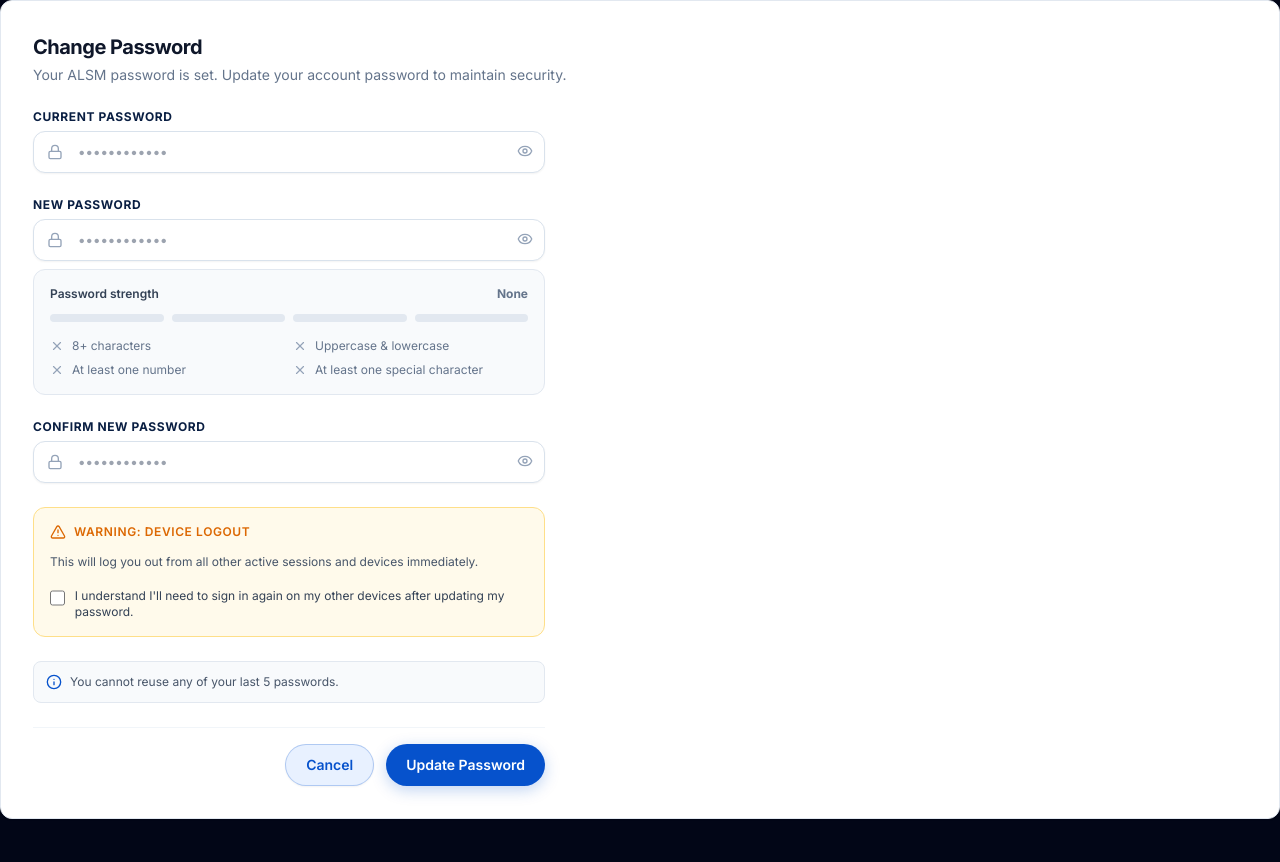
forced credential remediation › retains the restriction on a rejected credential change
Type "Old-Fixture-42!" into the password field labelled "Current Password" at (289, 152), box [33,131,545,173]
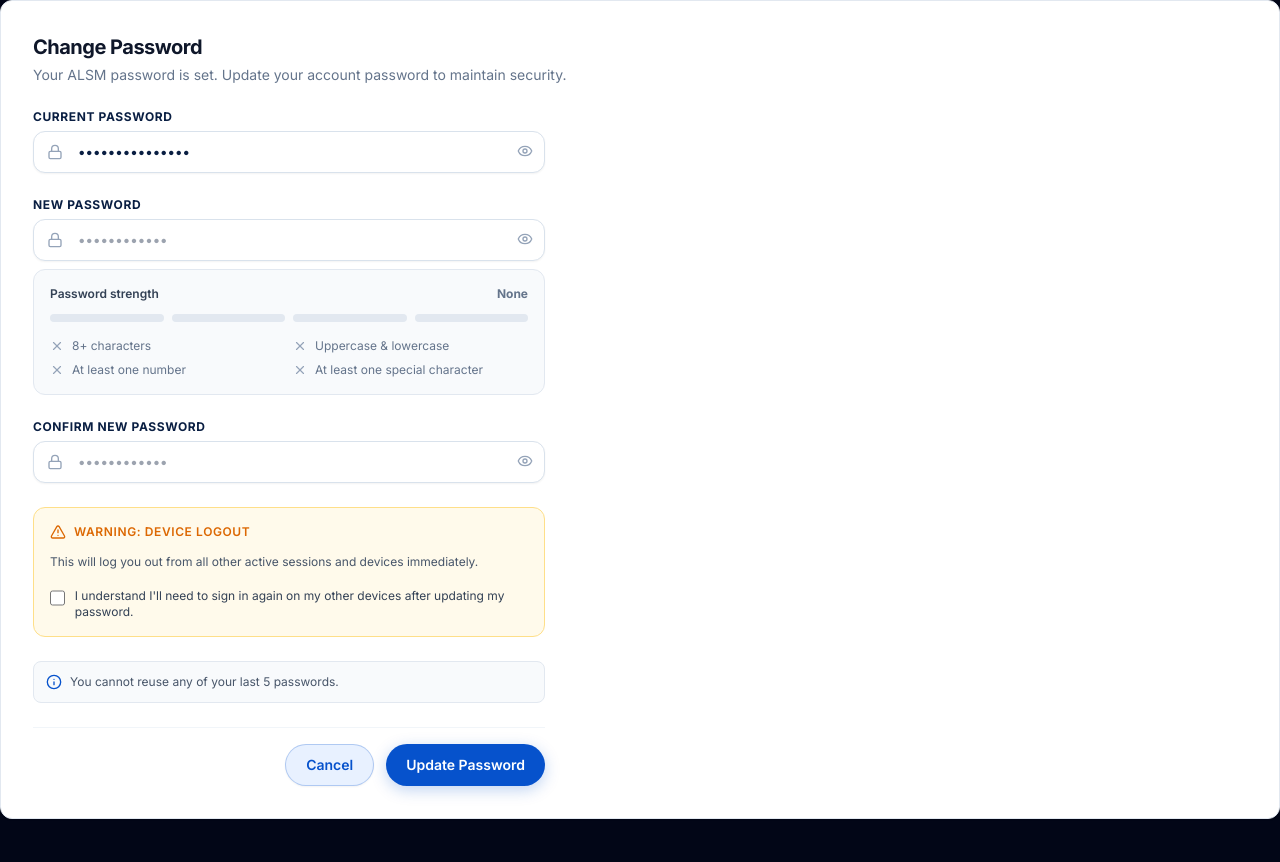
Type "New-Fixture-42!" into the password field labelled "New Password" at (289, 240), box [33,219,545,261]
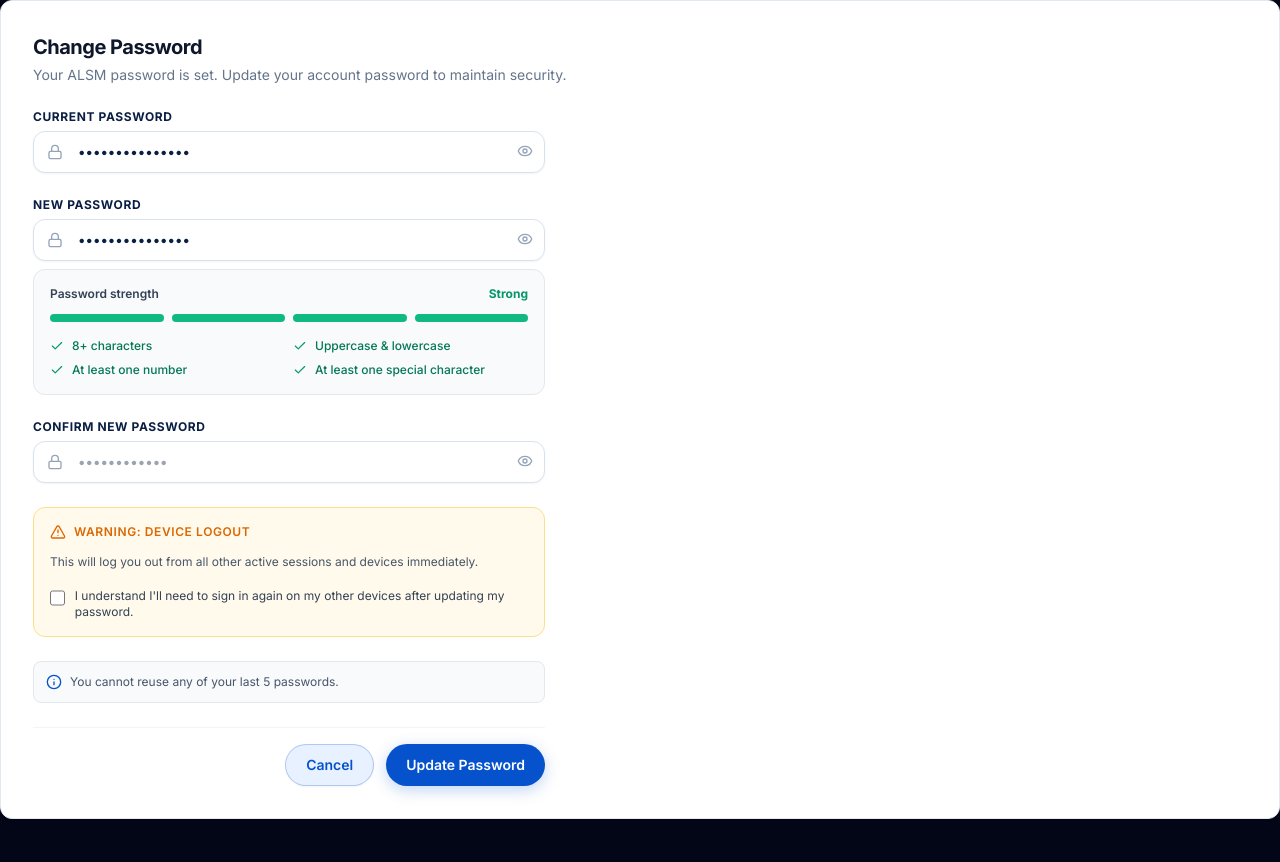
Type "New-Fixture-42!" into the password field labelled "Confirm New Password" at (289, 462), box [33,441,545,483]
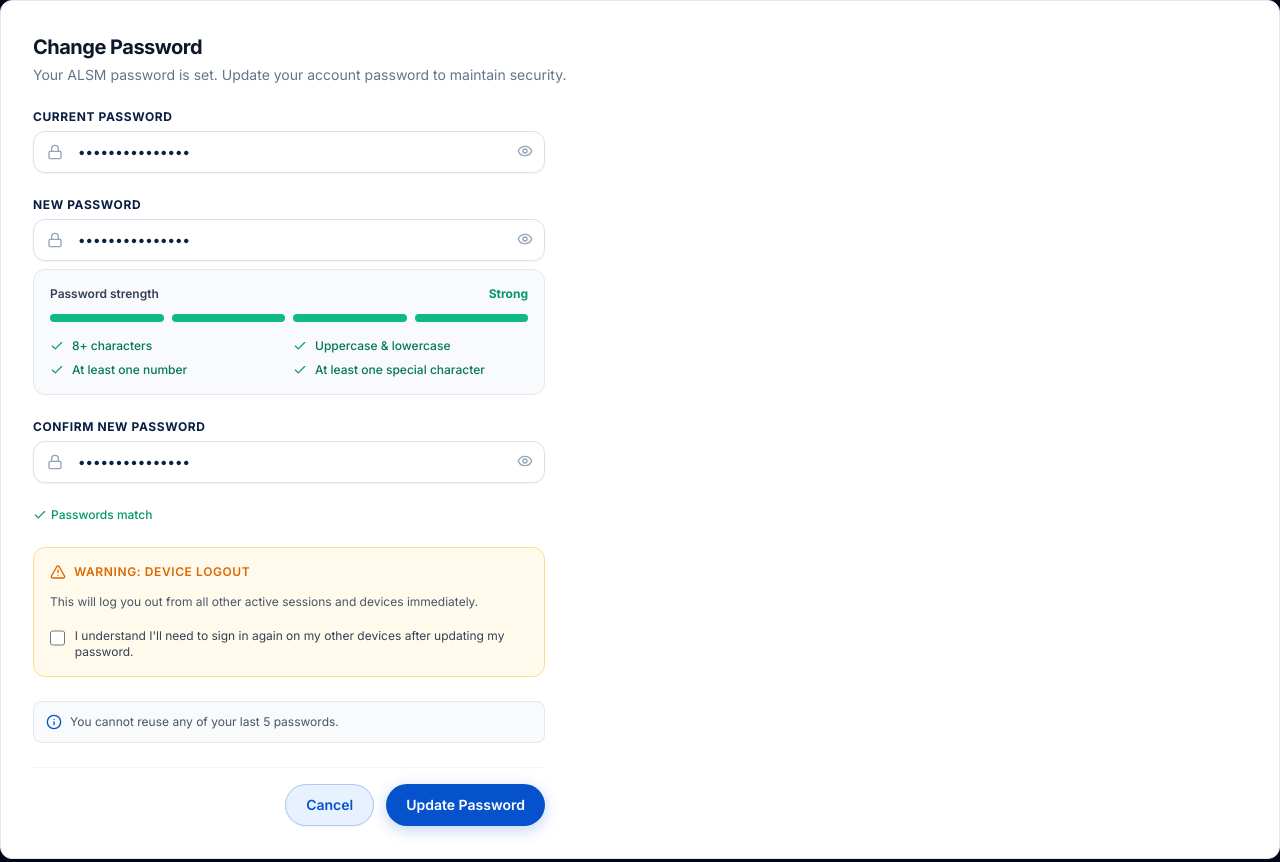
Click the checkbox at (57, 638), box [50,630,65,646]
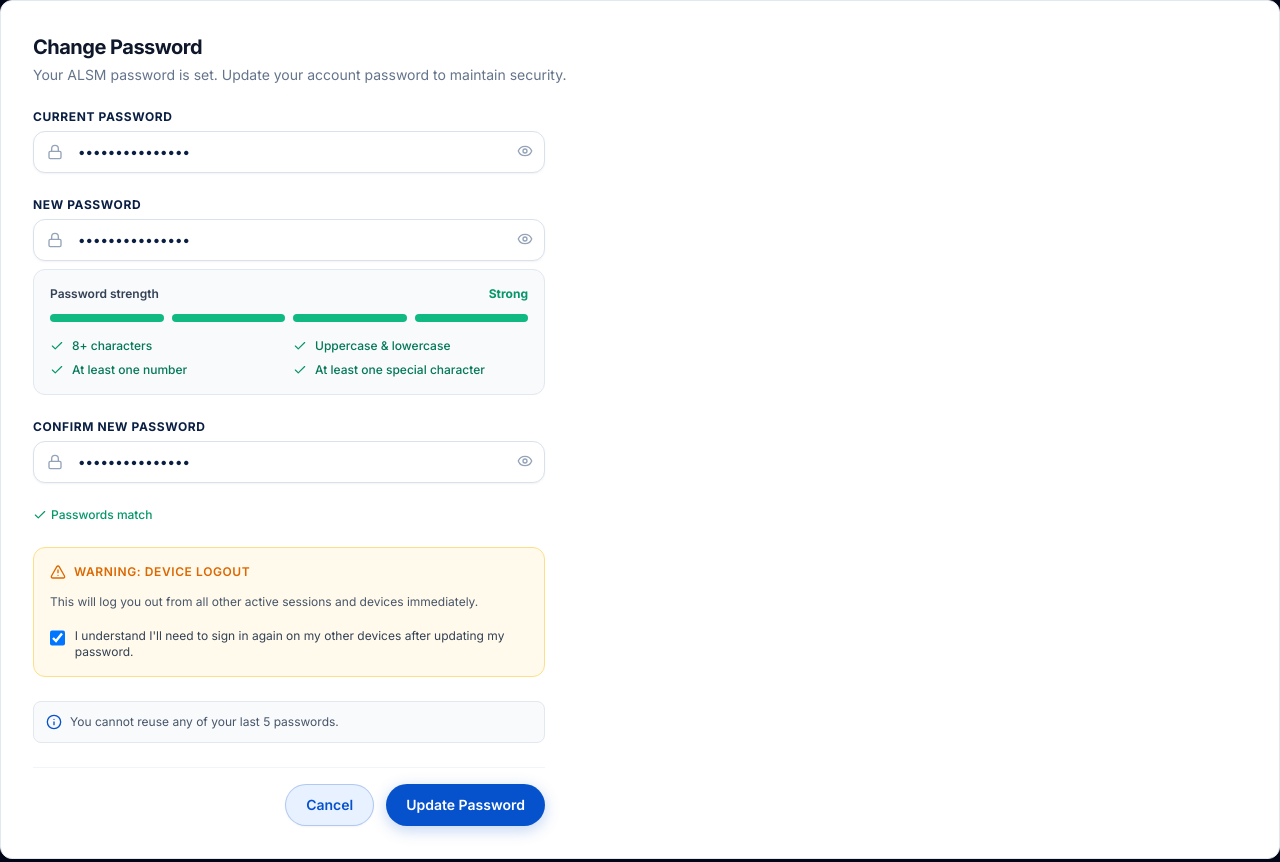
Click the button "Update Password" at (466, 804), box [386,784,545,826]
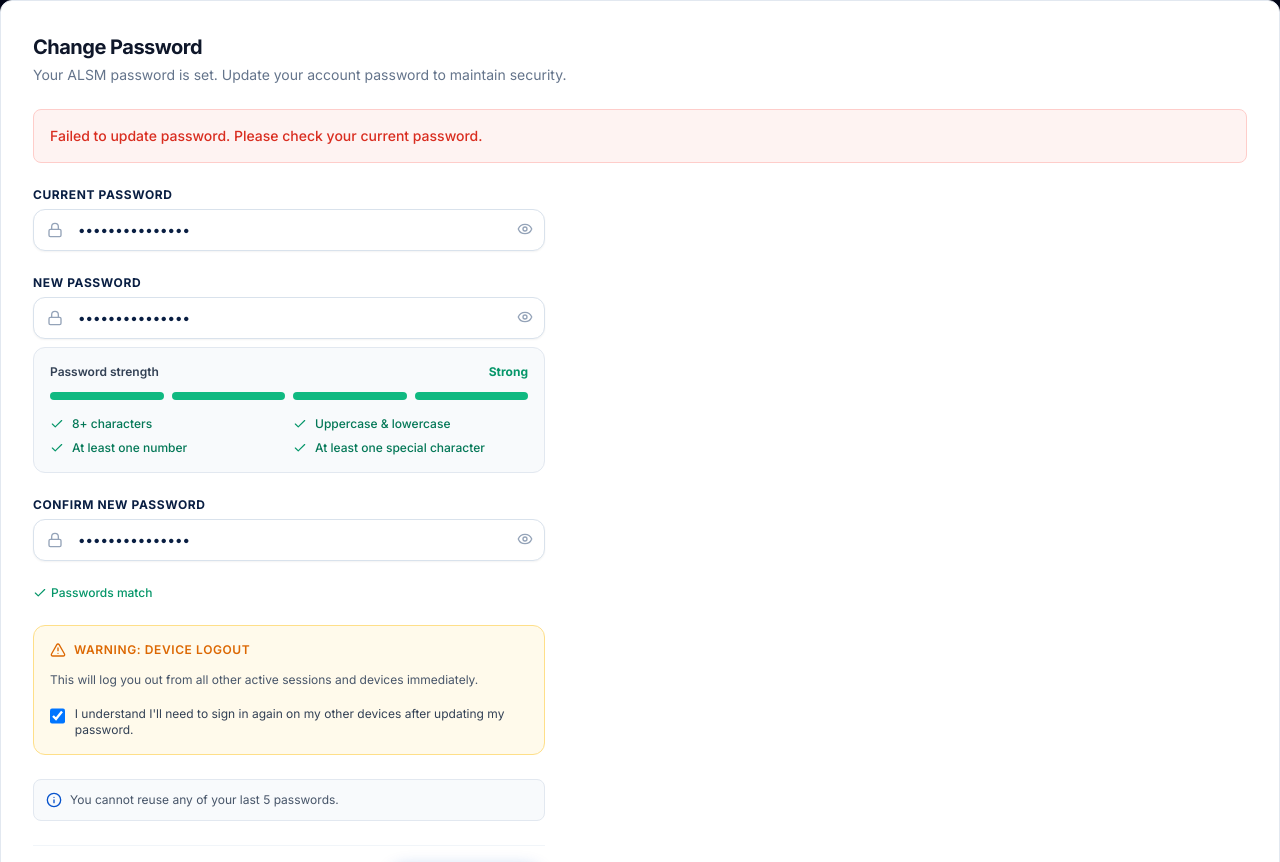
Check: the text "Failed to update password. Please check your current password." is shown, box [33,109,1247,163]
